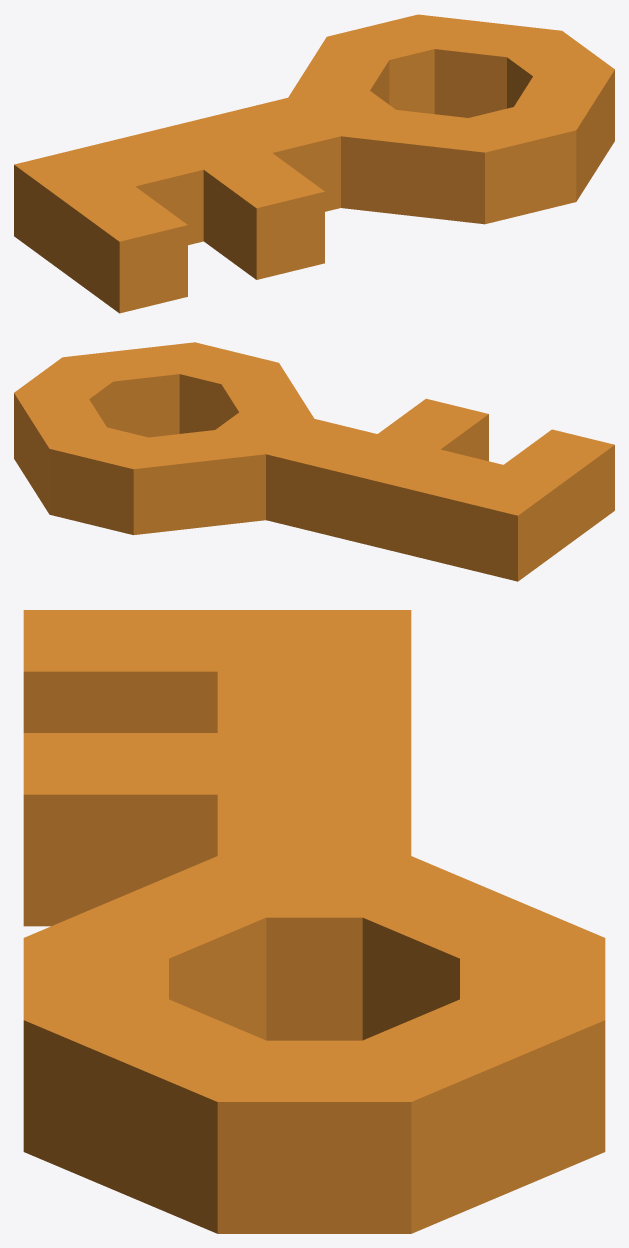
Rendered from Key.fbx.
3 renders of one model, top to bottom at view 1: azimuth 30°, elevation 25°; view 2: azimuth 150°, elevation 25°; view 3: azimuth 270°, elevation 25°, orthographic. The views are drawn at different scales.
Visible parts, largest first — view 1: Key; view 2: Key; view 3: Key.
Part boxes in pixels (x1,y1,x2,y2): Key: (14,14,614,313); Key: (14,342,614,581); Key: (23,610,605,1233).
Size of the model in its own units: 400 by 50 by 200.
